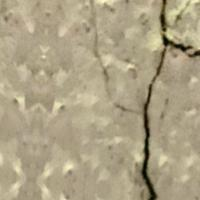crack: (132, 0, 199, 199)
